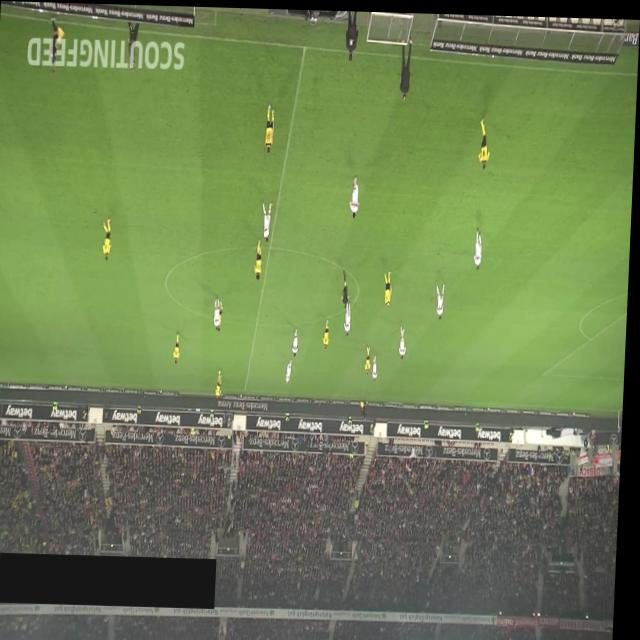player: (478, 114, 491, 167), (264, 101, 275, 151), (350, 171, 361, 216), (103, 216, 114, 259), (262, 198, 273, 241), (475, 223, 485, 267), (255, 235, 265, 277), (437, 279, 447, 317), (400, 323, 410, 357), (385, 267, 394, 304), (345, 299, 354, 333), (215, 293, 223, 329), (175, 328, 183, 363), (324, 316, 332, 347), (218, 299, 225, 330), (217, 367, 224, 398), (366, 342, 373, 371), (294, 326, 301, 355), (374, 352, 381, 380), (288, 357, 295, 382)
referee: (48, 17, 64, 65), (343, 266, 352, 306), (363, 395, 371, 421)
